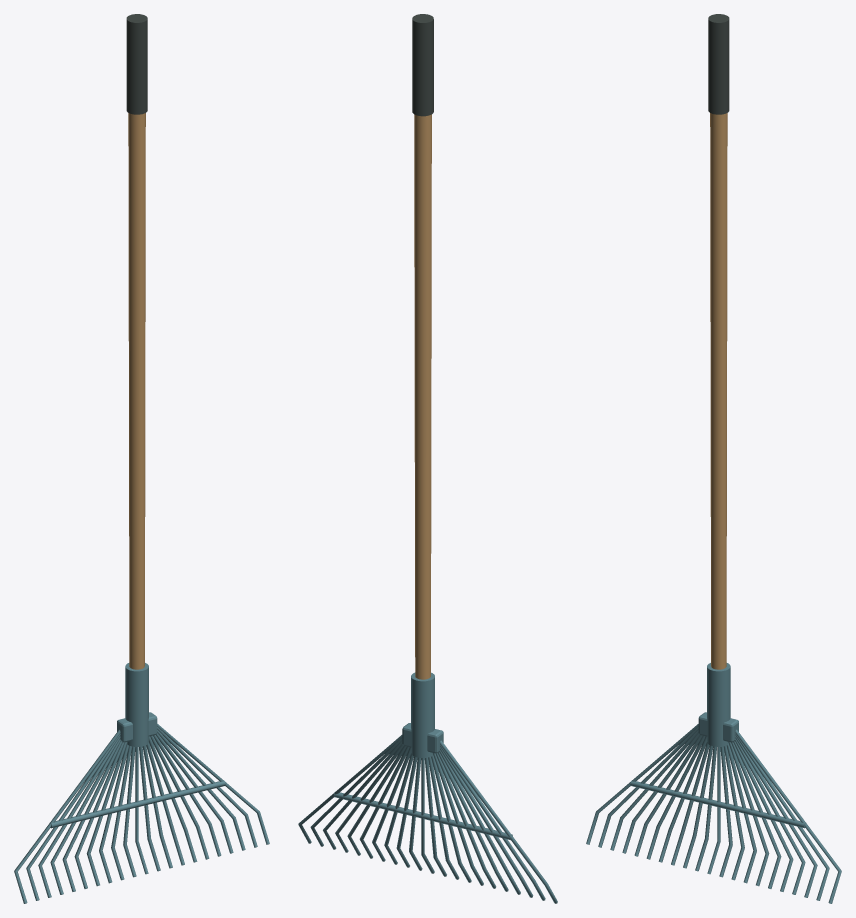
Rendered from rake_leaf.glb.
3 views of the same model, side by side, from view 1: azimuth 30°, elevation 25°; view 2: azimuth 150°, elevation 25°; view 3: azimuth 330°, elevation 25° (orthographic).
Visible parts, largest first — view 1: Long wooden rake handle, Rake handle grip, Metal handle socket, Wide rake tine cross support, Leaf rake spring tine 1, Leaf rake spring tine 2, Leaf rake spring tine 3, Leaf rake spring tine 4, Leaf rake spring tine 5, Leaf rake spring tine 6, Leaf rake spring tine 21, Leaf rake spring tine 7 (+13 smaller); view 2: Long wooden rake handle, Rake handle grip, Metal handle socket, Wide rake tine cross support, Leaf rake spring tine 1, Leaf rake spring tine 2, Leaf rake spring tine 3, Leaf rake spring tine 4, Leaf rake spring tine 5, Leaf rake spring tine 6, Leaf rake spring tine 7, Leaf rake spring tine 21 (+4 smaller); view 3: Long wooden rake handle, Rake handle grip, Metal handle socket, Wide rake tine cross support, Leaf rake spring tine 21, Leaf rake spring tine 20, Leaf rake spring tine 19, Leaf rake spring tine 18, Leaf rake spring tine 17, Leaf rake spring tine 16, Leaf rake spring tine 1, Leaf rake spring tine 15 (+13 smaller).
Boxes of the visible parts, x1,y1,x2,y2 form: Long wooden rake handle: (128,113,145,669); Rake handle grip: (126,14,147,114); Metal handle socket: (125,663,148,746); Wide rake tine cross support: (50,781,225,828); Leaf rake spring tine 1: (14,729,120,903); Leaf rake spring tine 2: (26,734,120,900); Leaf rake spring tine 3: (38,736,120,897); Leaf rake spring tine 4: (50,739,120,894); Leaf rake spring tine 5: (62,741,122,891); Leaf rake spring tine 6: (74,742,124,888); Leaf rake spring tine 21: (157,724,269,844); Leaf rake spring tine 7: (86,742,127,886); Long wooden rake handle: (414,114,431,679); Rake handle grip: (412,14,433,116); Metal handle socket: (411,672,434,757); Wide rake tine cross support: (333,792,512,840); Leaf rake spring tine 1: (440,740,557,903); Leaf rake spring tine 2: (440,744,545,900); Leaf rake spring tine 3: (440,747,533,897); Leaf rake spring tine 4: (439,750,520,894); Leaf rake spring tine 5: (437,752,508,891); Leaf rake spring tine 6: (435,753,496,888); Leaf rake spring tine 7: (432,753,483,885); Leaf rake spring tine 21: (298,735,402,843); Long wooden rake handle: (710,113,727,669); Rake handle grip: (708,14,729,114); Metal handle socket: (707,663,730,746); Wide rake tine cross support: (630,781,805,828); Leaf rake spring tine 21: (735,729,841,903); Leaf rake spring tine 20: (735,734,829,900); Leaf rake spring tine 19: (735,736,817,897); Leaf rake spring tine 18: (735,739,805,894); Leaf rake spring tine 17: (733,741,793,891); Leaf rake spring tine 16: (731,742,781,888); Leaf rake spring tine 1: (586,724,698,844); Leaf rake spring tine 15: (728,742,769,886).
Bounding box in the file's own units: 0.4762 × 1.57 × 0.0556.
